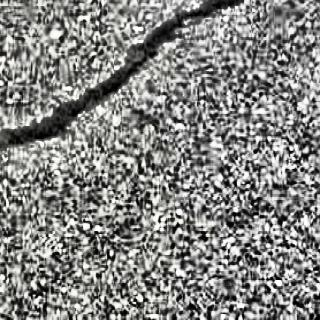crack: (4, 1, 230, 153)
